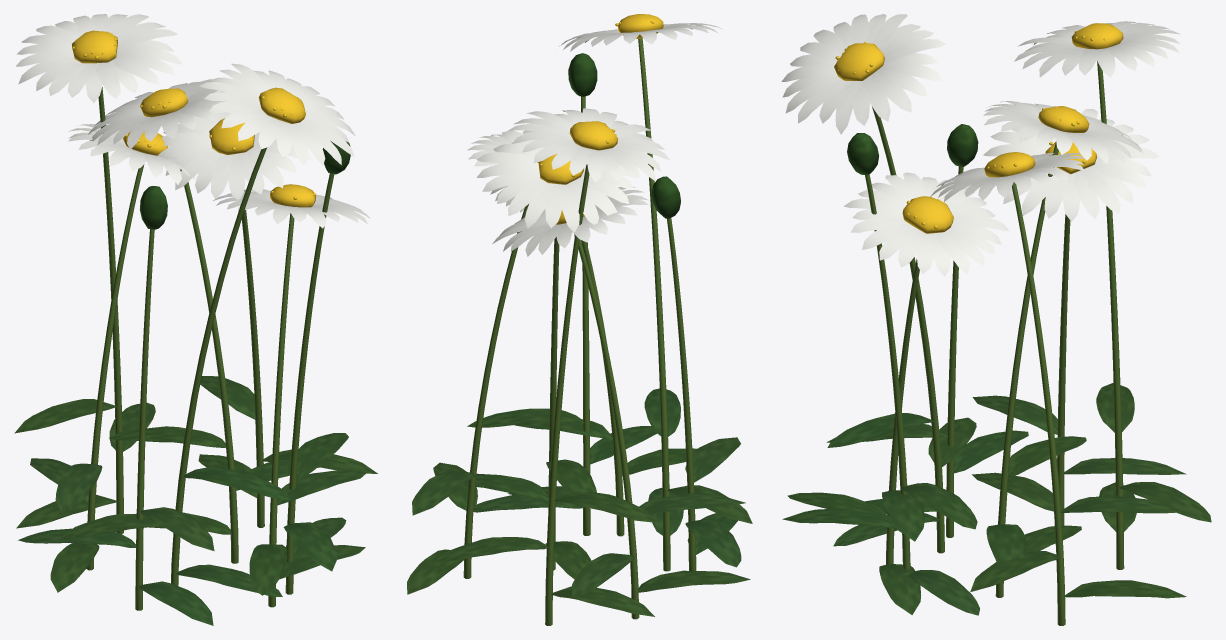
The model's file is m-daisy.glb.
3 views of the same model, side by side, from view 1: azimuth 30°, elevation 25°; view 2: azimuth 150°, elevation 25°; view 3: azimuth 270°, elevation 25° (orthographic). The views are drawn at different scales.
Visible parts, largest first — view 1: Flowers, Foliage, Stems; view 2: Foliage, Flowers, Stems; view 3: Flowers, Foliage, Stems.
Part boxes in pixels (left/top/right/bottom): Flowers: left=16, top=14, right=370, bottom=228; Foliage: left=14, top=141, right=377, bottom=625; Stems: left=86, top=87, right=334, bottom=610; Foliage: left=407, top=53, right=752, bottom=616; Flowers: left=467, top=14, right=722, bottom=256; Stems: left=463, top=38, right=696, bottom=625; Flowers: left=781, top=14, right=1180, bottom=276; Foliage: left=782, top=124, right=1211, bottom=615; Stems: left=865, top=61, right=1124, bottom=625.
Bounding box in the file's own units: 0.2099 × 0.32 × 0.2296.
3 materials, 1 textured.
